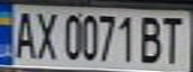0: (78, 11, 100, 62), (60, 10, 81, 62)
1: (115, 12, 139, 62)
7: (97, 11, 118, 62)
A: (9, 8, 39, 60)
B: (136, 12, 166, 64)
T: (157, 12, 190, 64)
X: (33, 8, 60, 61)
